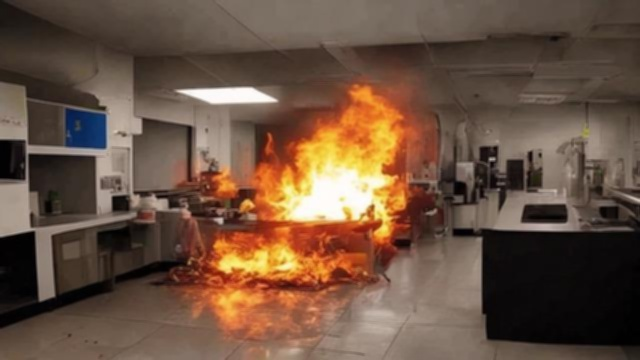fire: (173, 76, 420, 308)
